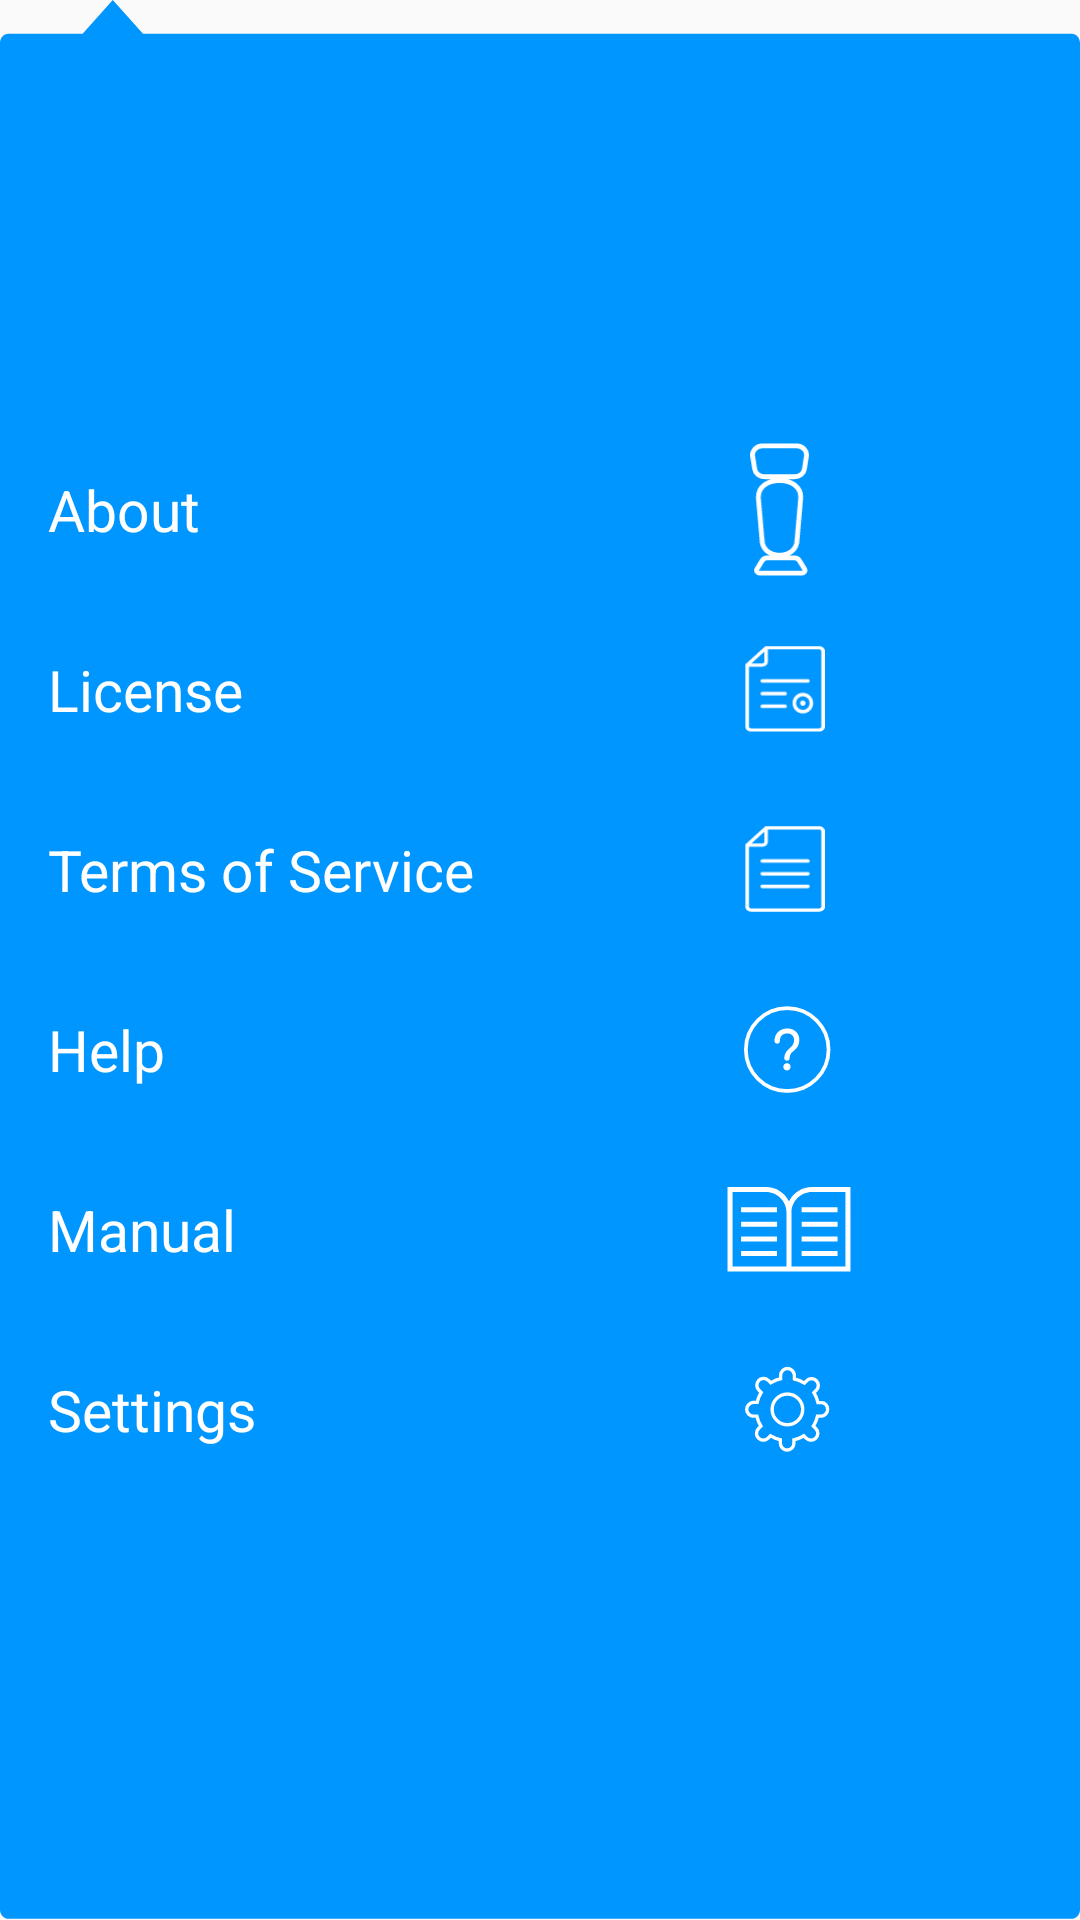

Named icons in this screenshot (1080*1920) and their centers, point (x, y):
agreement: point (785, 689)
agreement other: point (785, 869)
